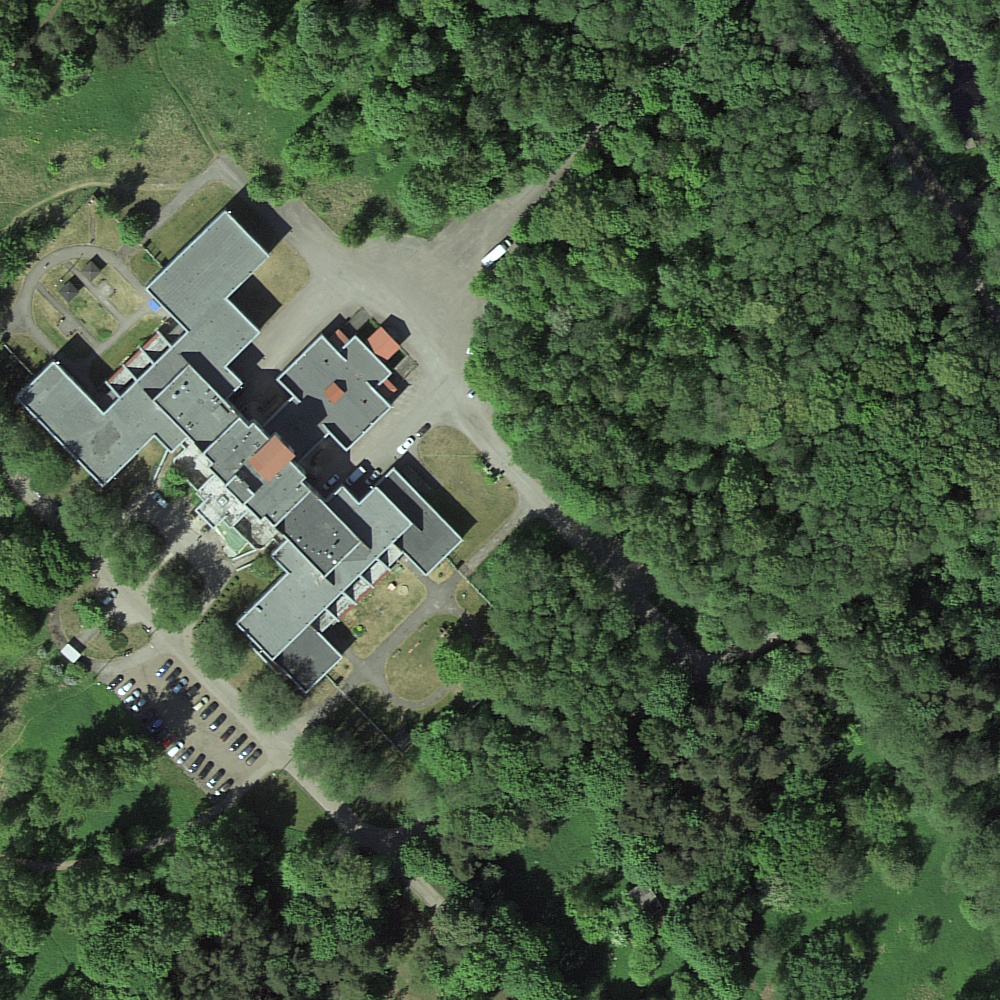building: (16, 211, 465, 694)
